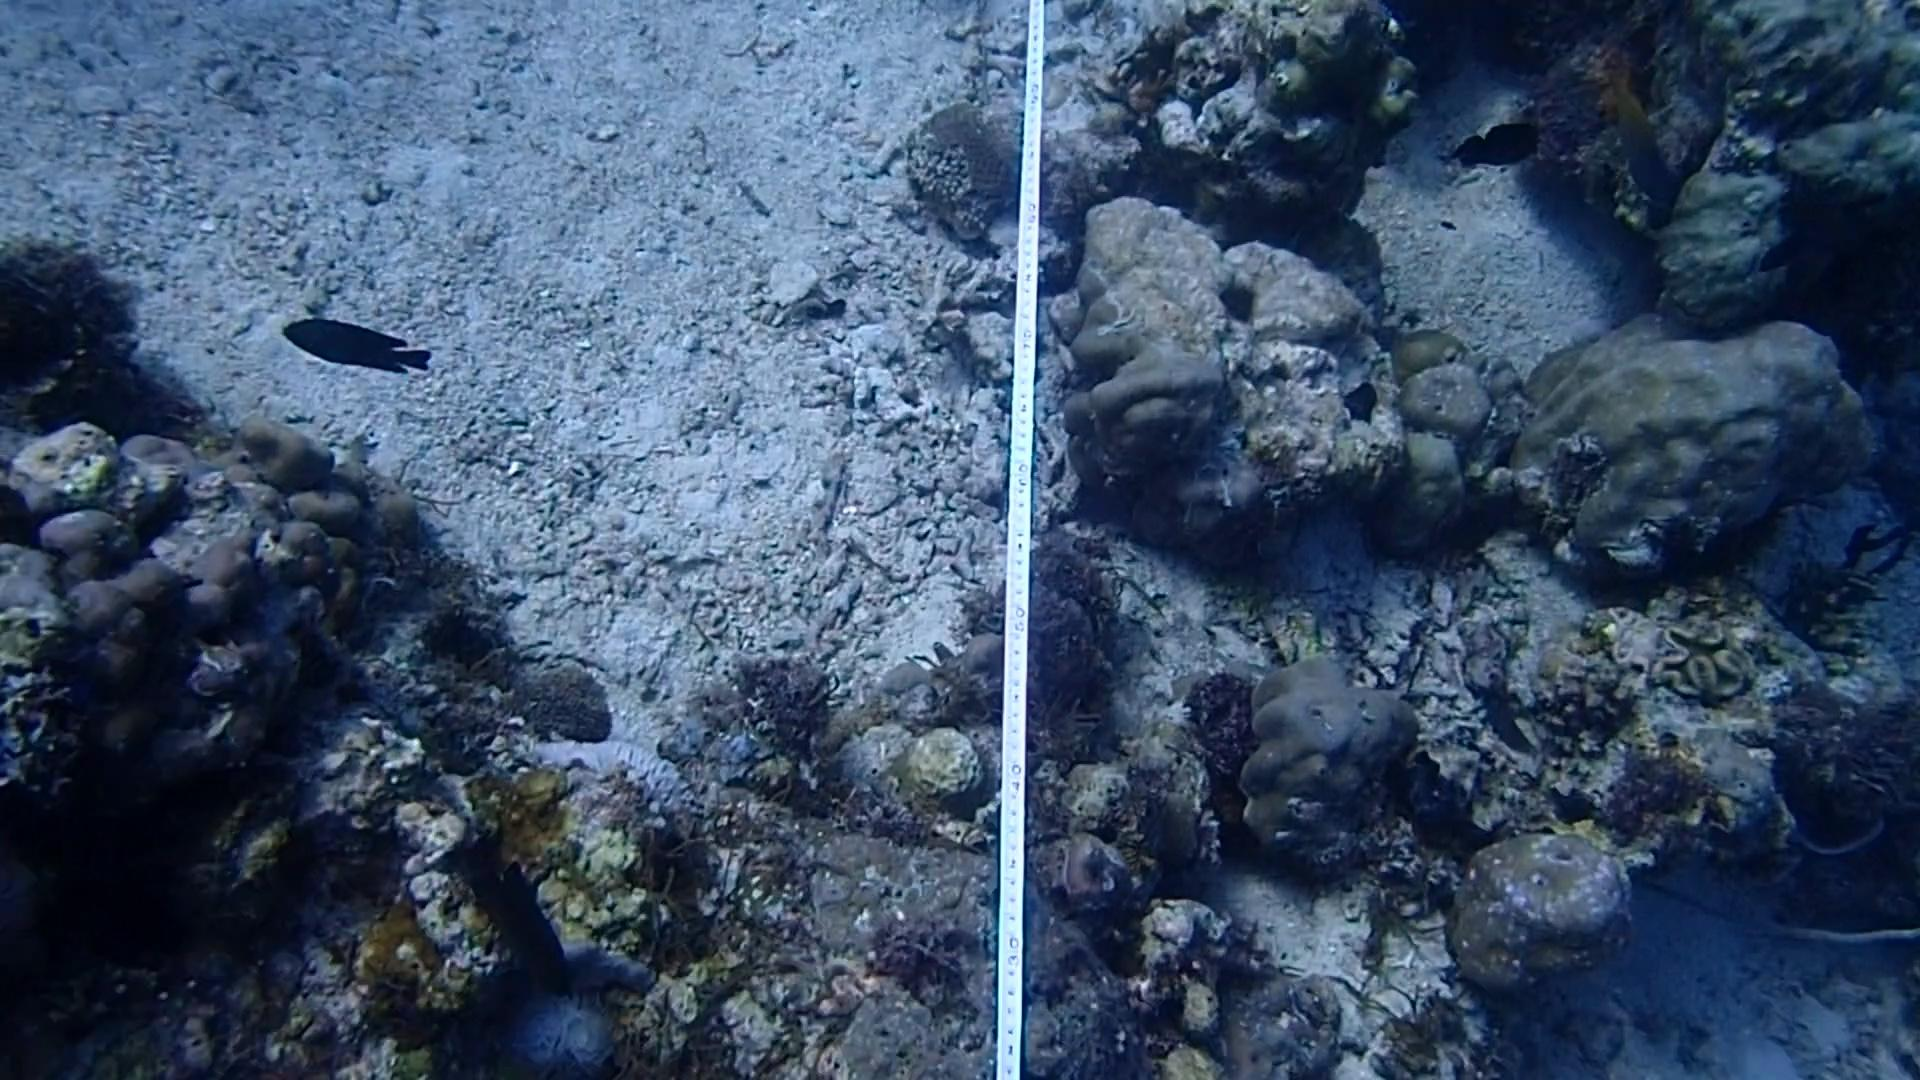Dark Fish: (454, 836, 578, 997), (270, 303, 435, 389), (1444, 108, 1551, 187)
Half Blue - Half Yellow: (1600, 65, 1693, 216)
